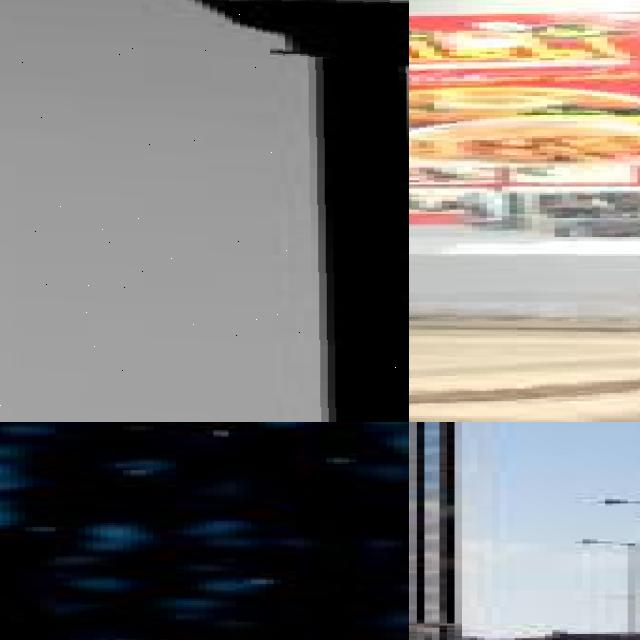street light: (0, 0, 409, 422), (582, 537, 640, 640)
